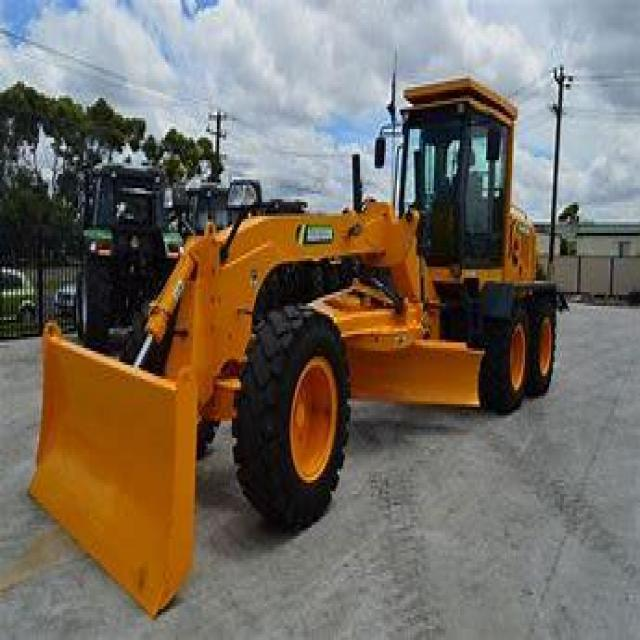Grader: (32, 62, 604, 519)
